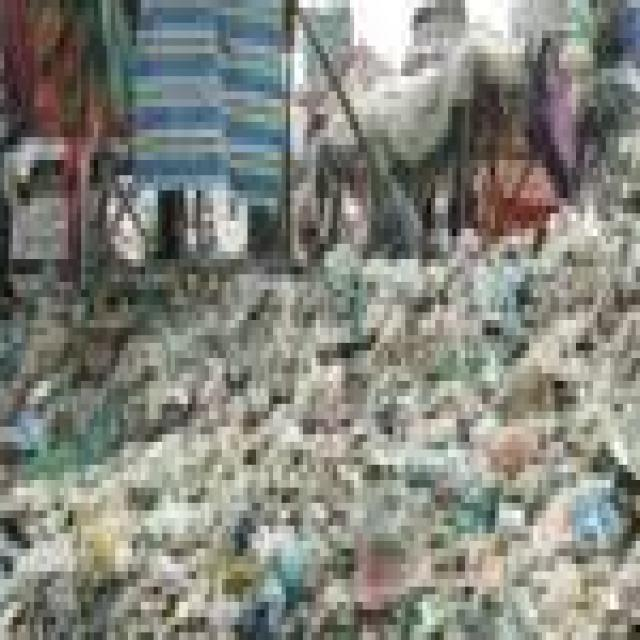-: (0, 373, 640, 640)
